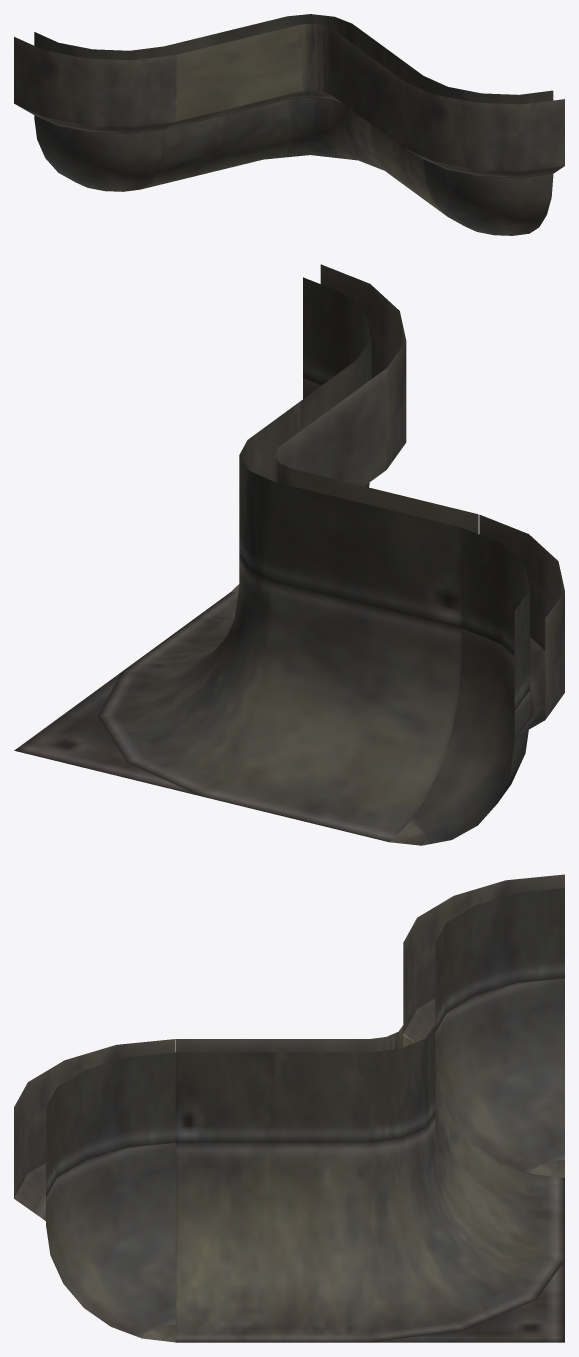
File: welder_ceiling_concave_small_end_pplant.dae
3 renders of one model, top to bottom at view 1: azimuth 30°, elevation 25°; view 2: azimuth 150°, elevation 25°; view 3: azimuth 270°, elevation 25°, orthographic. The views are drawn at different scales.
Parts seen in each view (by area): view 1: welder_ceiling_concave_small_end_pplant; view 2: welder_ceiling_concave_small_end_pplant; view 3: welder_ceiling_concave_small_end_pplant.
Part boxes in pixels (<box>): welder_ceiling_concave_small_end_pplant: <box>14,14,564,235</box>; welder_ceiling_concave_small_end_pplant: <box>14,264,564,845</box>; welder_ceiling_concave_small_end_pplant: <box>14,874,564,1342</box>.
Bounding box in the file's own units: 1.06 × 0.5 × 1.06.
